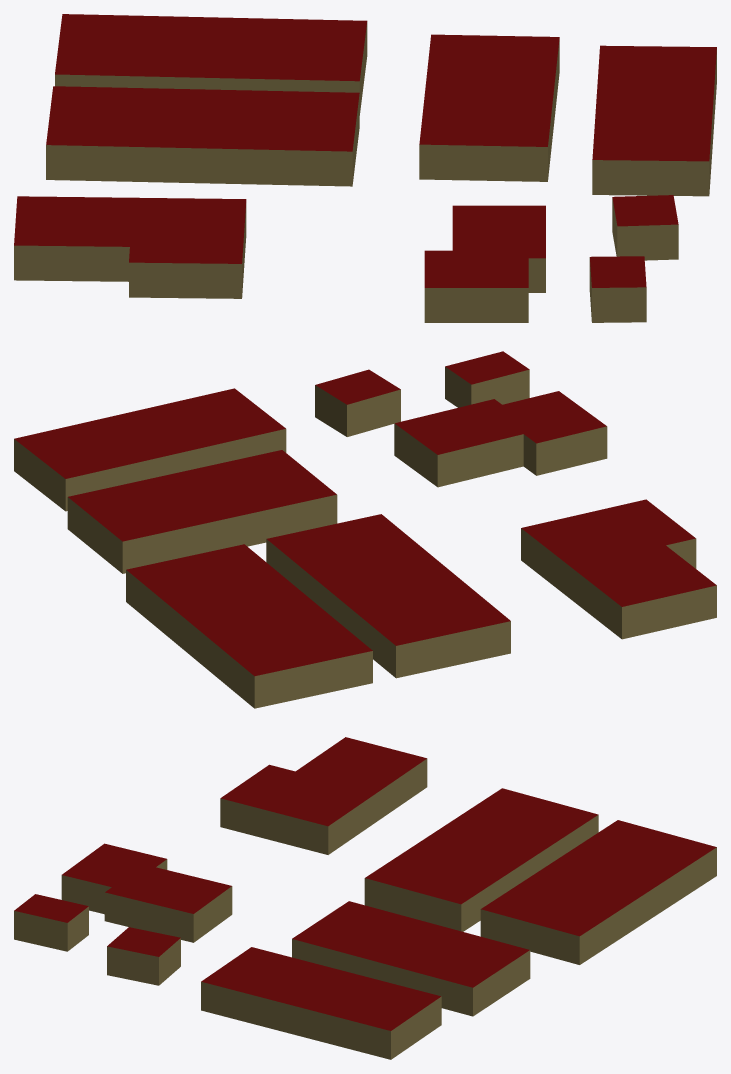
Rendered from Ingolstadt_Tile_9_6.obj.
The picture shows the model from 3 angles, top to bottom: view 1: azimuth 30°, elevation 25°; view 2: azimuth 150°, elevation 25°; view 3: azimuth 270°, elevation 25°; orthographic projection. The views are drawn at different scales.
Parts seen in each view (by area): view 1: object 3, Building2, Building1, Building Seat Zentrum Ingolstadt, Building0, Building3, Building4; view 2: object 3, Building1, Building2, Building Seat Zentrum Ingolstadt, Building0, Building3, Building4; view 3: object 3, Building1, Building2, Building Seat Zentrum Ingolstadt, Building0, Building3, Building4.
Part boxes in pixels (<box>): object 3: <box>419,34,716,196</box>; Building2: <box>46,86,359,186</box>; Building1: <box>55,14,367,115</box>; Building Seat Zentrum Ingolstadt: <box>14,196,246,298</box>; Building0: <box>424,205,545,322</box>; Building3: <box>612,195,678,260</box>; Building4: <box>589,256,646,322</box>; object 3: <box>14,388,337,573</box>; Building1: <box>126,544,372,708</box>; Building2: <box>266,514,510,678</box>; Building Seat Zentrum Ingolstadt: <box>521,499,716,639</box>; Building0: <box>394,391,607,487</box>; Building3: <box>315,369,400,436</box>; Building4: <box>445,351,529,407</box>; object 3: <box>201,901,530,1059</box>; Building1: <box>480,820,716,964</box>; Building2: <box>364,788,598,931</box>; Building Seat Zentrum Ingolstadt: <box>220,737,427,854</box>; Building0: <box>61,843,232,942</box>; Building3: <box>107,927,180,985</box>; Building4: <box>14,894,88,951</box>.
Bounding box in the file's own units: 164 × 7.5 × 166.
